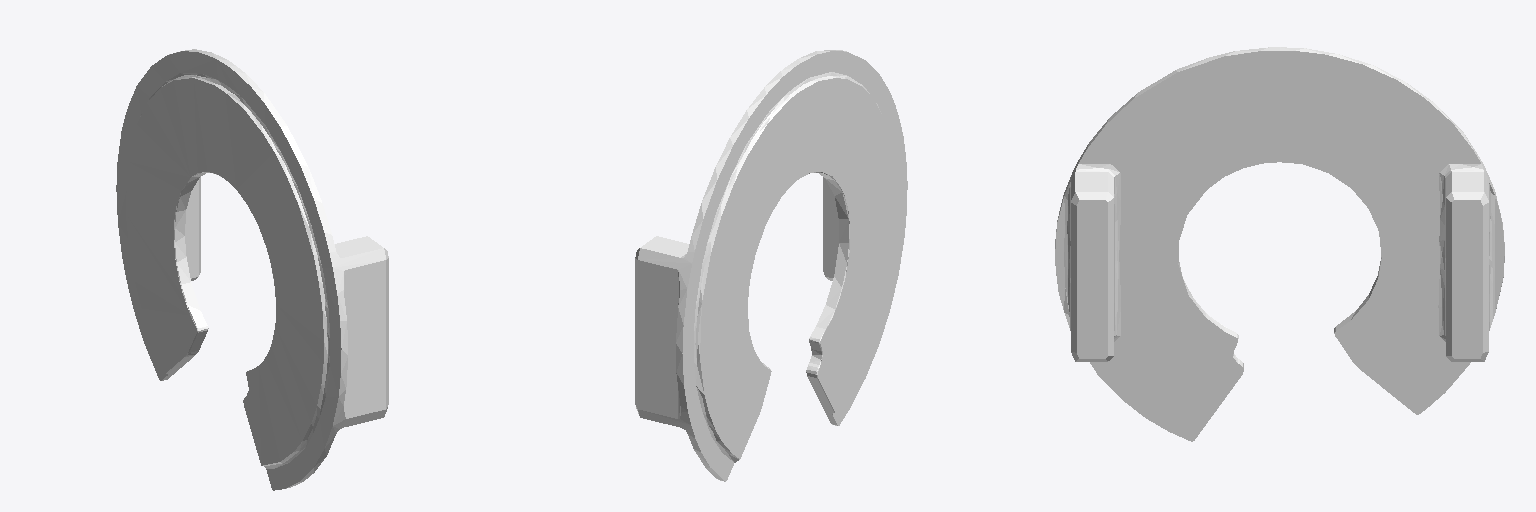
File: upper_arm_roll.obj
3 views of the same model, side by side, from view 1: azimuth 30°, elevation 25°; view 2: azimuth 150°, elevation 25°; view 3: azimuth 270°, elevation 25° (orthographic).
Size of the model in its own units: 0.23 by 1.38 by 1.44.